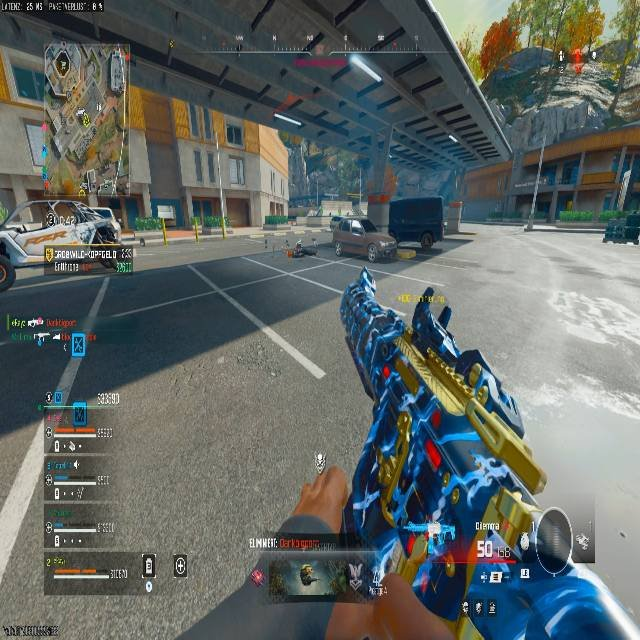head: (522, 507, 573, 570), (294, 240, 303, 251)
player: (291, 240, 306, 257)
